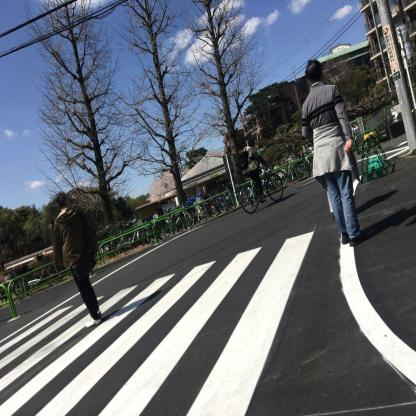Someiyoshino: (142, 166, 192, 204), (196, 148, 227, 162)
